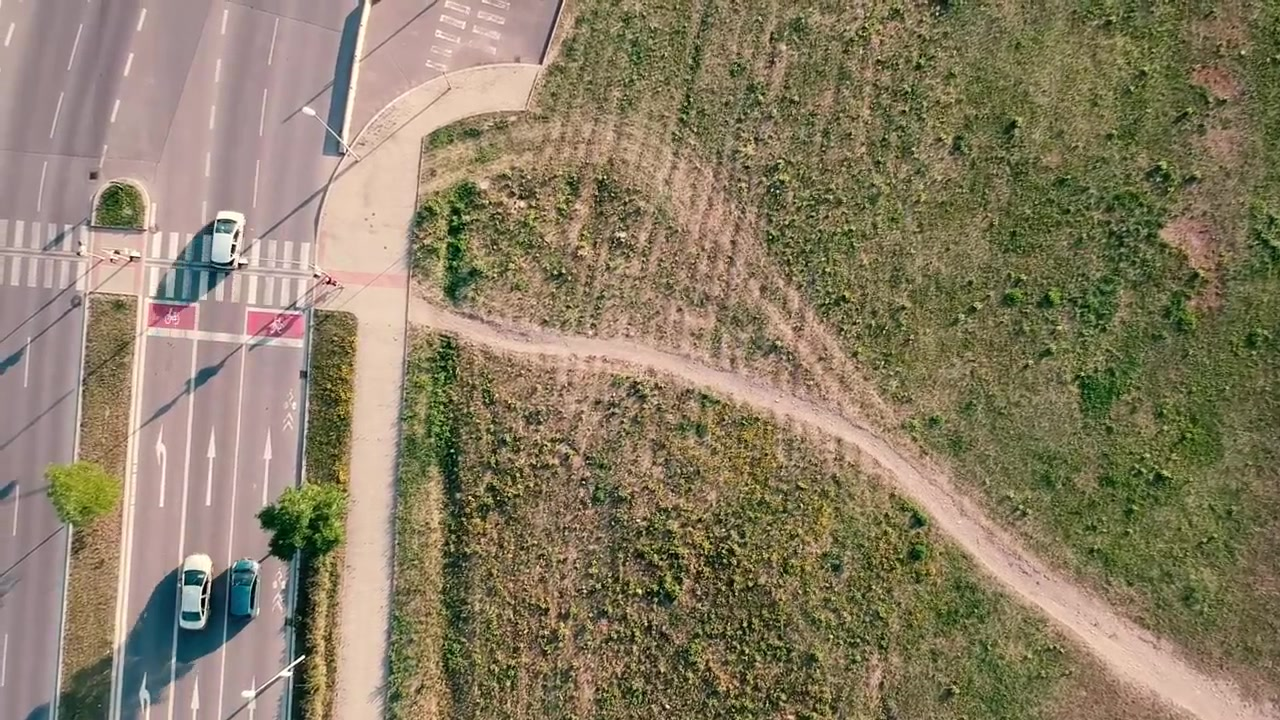car: (175, 549, 214, 633), (208, 208, 245, 272), (227, 557, 261, 621)
